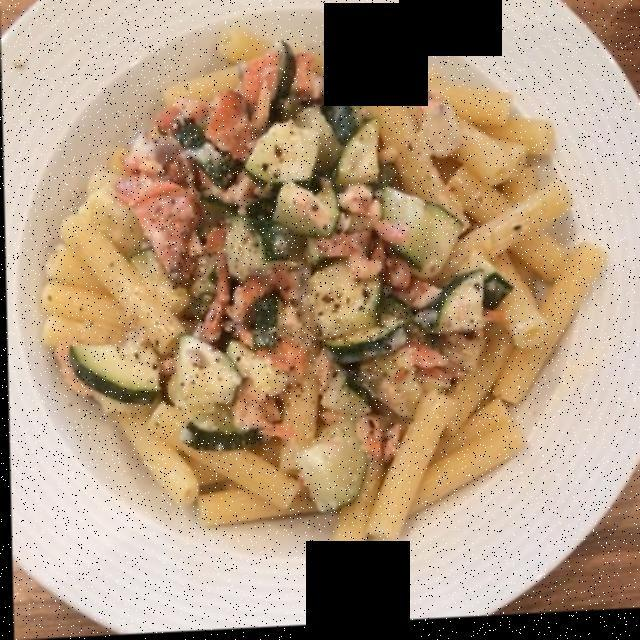pasta: (56, 44, 593, 569)
salmon: (128, 49, 308, 433)
sauce: (91, 84, 524, 503)
zucchini: (72, 39, 508, 520)
